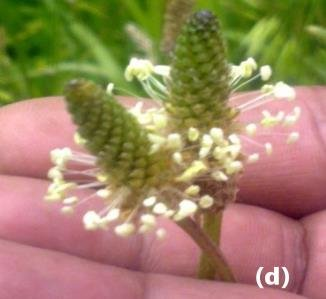buckhorn plantain: (45, 53, 189, 232), (168, 4, 274, 217)
